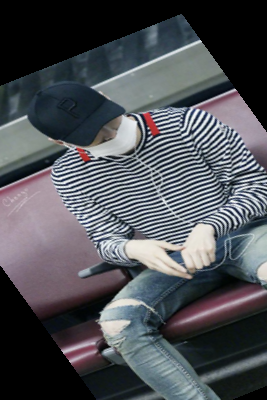mask_weared_incorrect: (18, 76, 151, 169)
